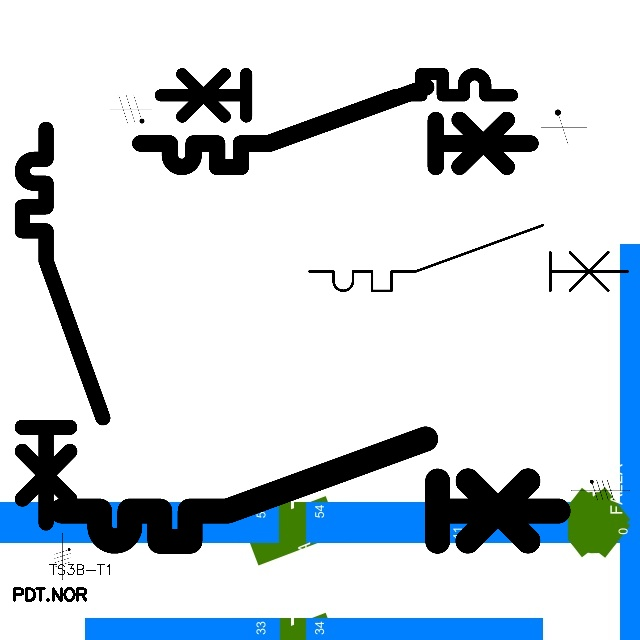interruptor_termomagnetico: (49, 426, 571, 554), (12, 119, 113, 533), (130, 77, 541, 177), (151, 65, 520, 155), (301, 217, 636, 299)
